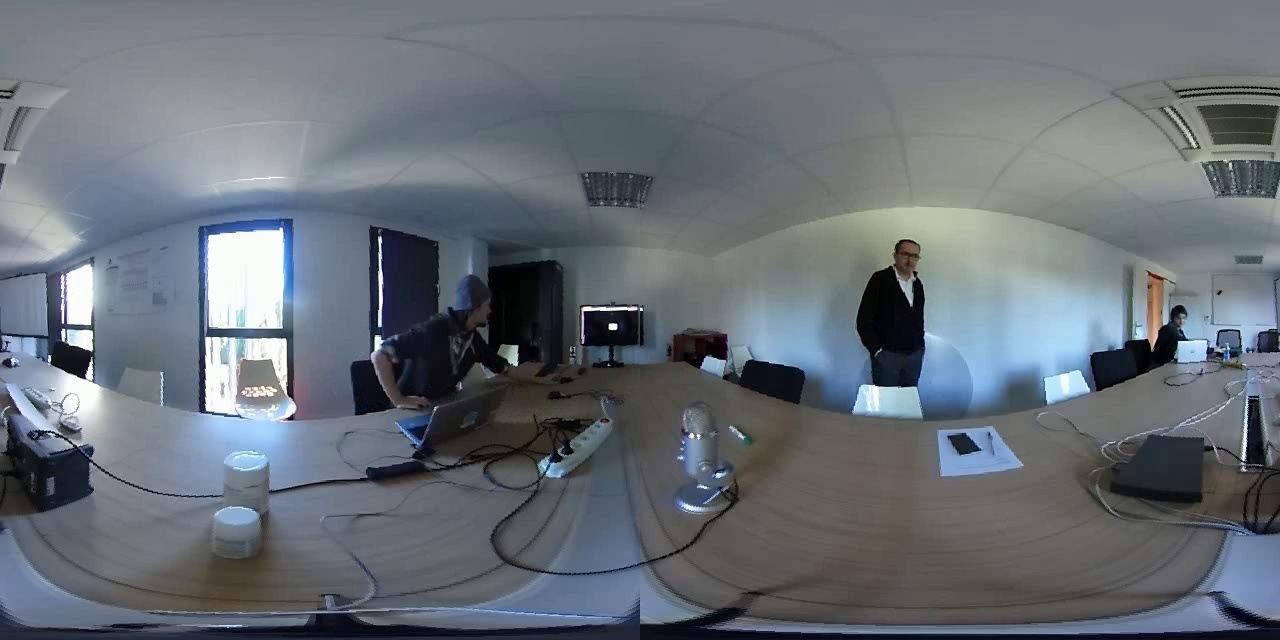person: (368, 271, 535, 397), (856, 234, 935, 389), (1156, 297, 1195, 346)
